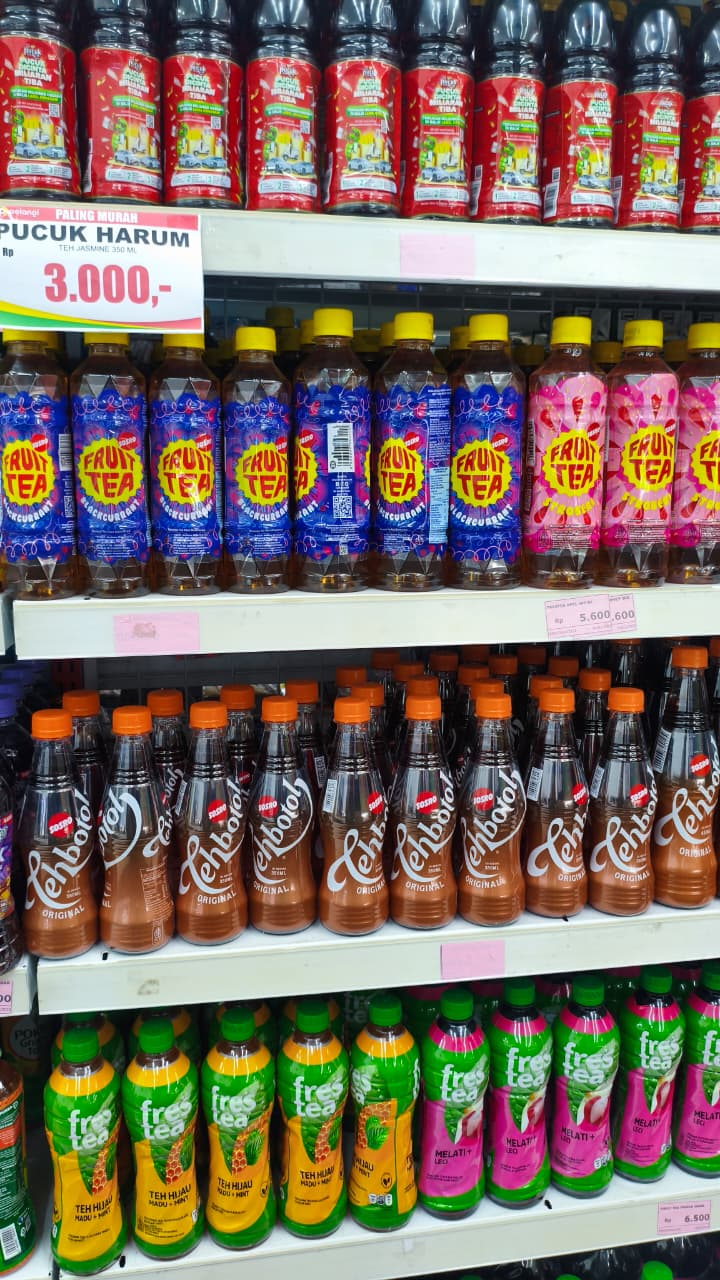fruit tea: (67, 411, 155, 550), (527, 406, 615, 545), (148, 403, 236, 542)
tehbotol: (15, 769, 103, 941), (382, 753, 470, 925)
